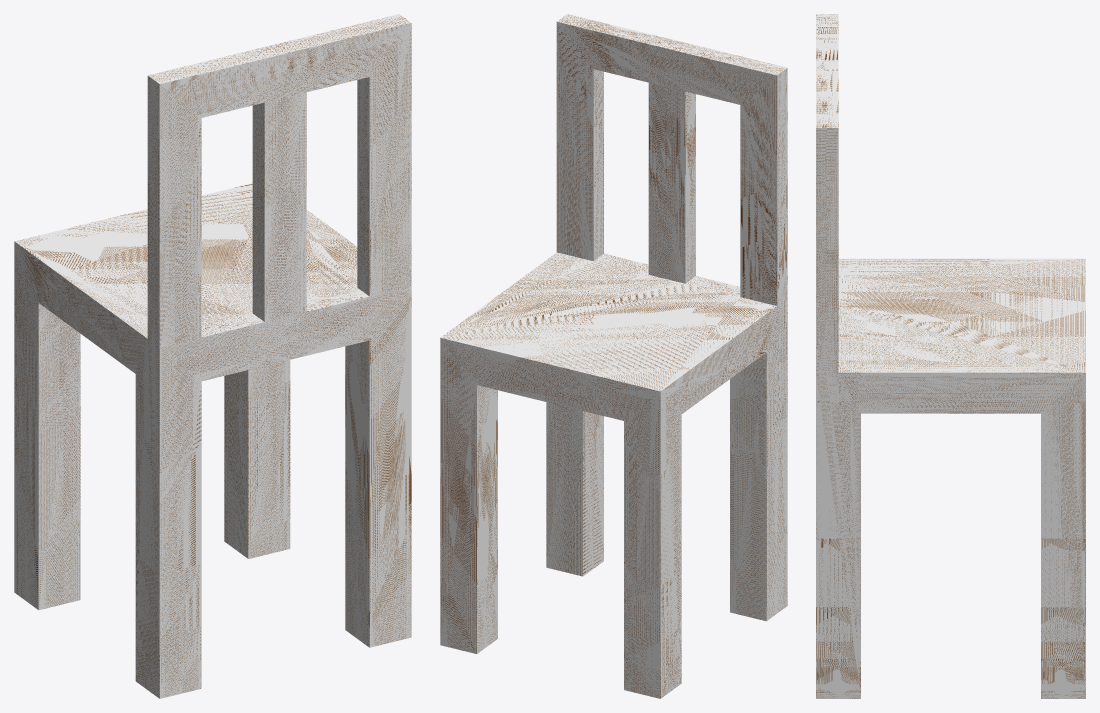
3 views of the same model, side by side, from view 1: azimuth 30°, elevation 25°; view 2: azimuth 150°, elevation 25°; view 3: azimuth 270°, elevation 25° (orthographic). The views are drawn at different scales.
Parts seen in each view (by area): view 1: mesh1_mesh1-geometry; view 2: mesh1_mesh1-geometry; view 3: mesh1_mesh1-geometry.
Part boxes in pixels (left/top/right/bottom): mesh1_mesh1-geometry: left=14, top=14, right=411, bottom=698; mesh1_mesh1-geometry: left=440, top=14, right=787, bottom=698; mesh1_mesh1-geometry: left=816, top=14, right=1085, bottom=698.
Size of the model in its own units: 0.3665 by 0.8552 by 0.3665.
Materials: 4 (2 with a texture image).
